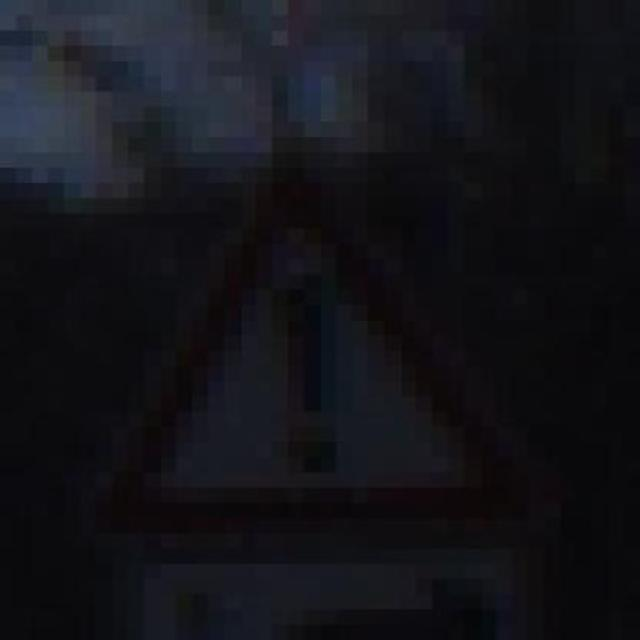Attention Please-: (67, 145, 531, 572)
